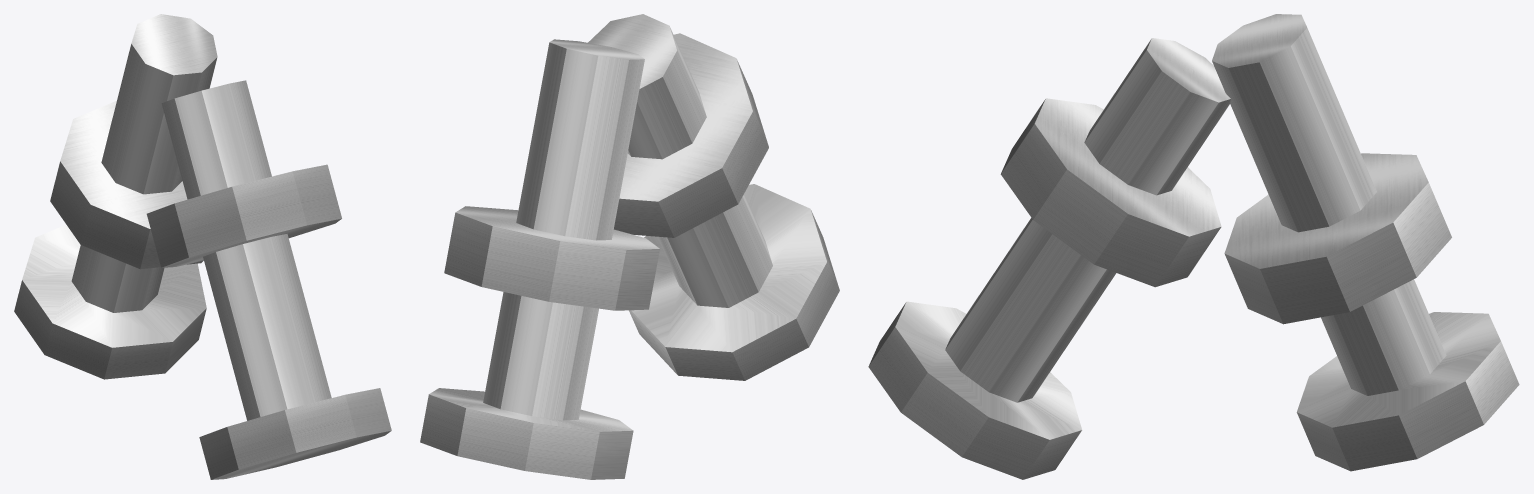
File: Collectable_Screw.fbx
3 views of the same model, side by side, from view 1: azimuth 30°, elevation 25°; view 2: azimuth 150°, elevation 25°; view 3: azimuth 270°, elevation 25° (orthographic). The views are drawn at different scales.
Parts seen in each view (by area): view 1: Collectables_Screw; view 2: Collectables_Screw; view 3: Collectables_Screw.
Part boxes in pixels (x1,y1,x2,y2): Collectables_Screw: (14,14,391,479); Collectables_Screw: (420,14,839,479); Collectables_Screw: (868,14,1519,479).
Bounding box in the file's own units: 4.13 × 8.87 × 11.95.
Materials: 1 (1 with a texture image).
